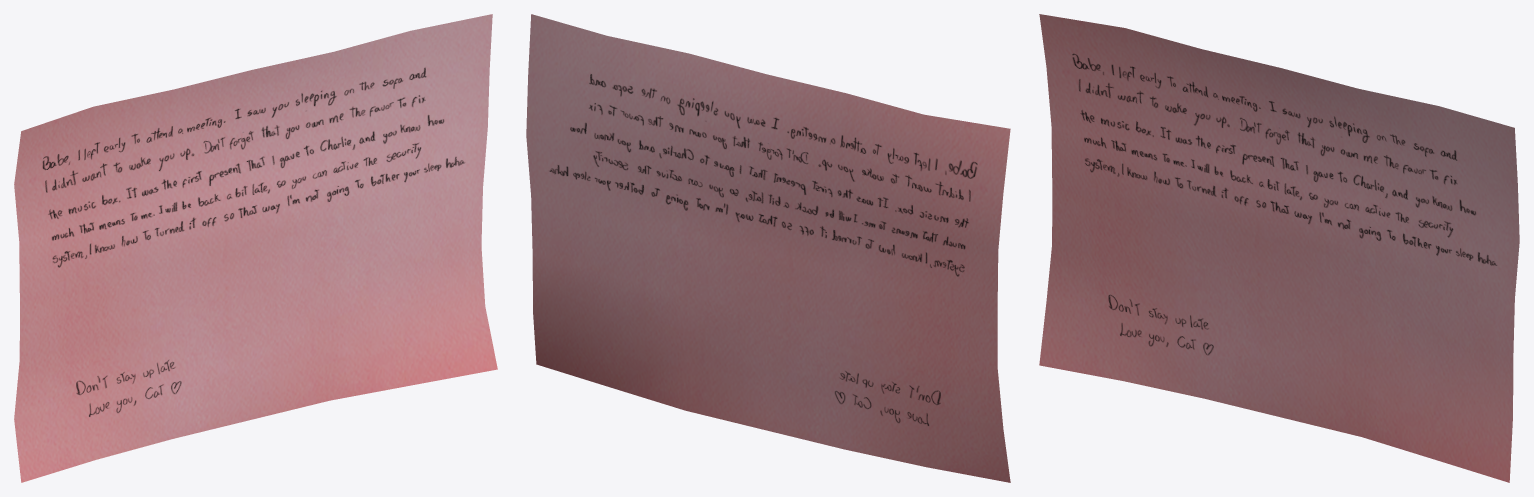
Rendered from nota_esposa.fbx.
The picture shows the model from 3 angles, left to right: view 1: azimuth 30°, elevation 25°; view 2: azimuth 150°, elevation 25°; view 3: azimuth 330°, elevation 25°; orthographic projection.
Visible parts, largest first — view 1: pPlane9; view 2: pPlane9; view 3: pPlane9.
Part boxes in pixels (x1,y1,x2,y2): pPlane9: (14, 14, 497, 482); pPlane9: (526, 14, 1010, 482); pPlane9: (1039, 14, 1519, 482).
Size of the model in its own units: 14.8 by 10.5 by 0.7151.
